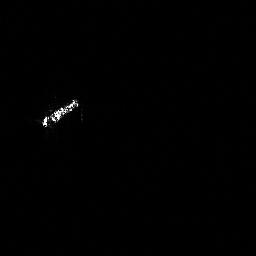ship: (39, 95, 81, 131)
